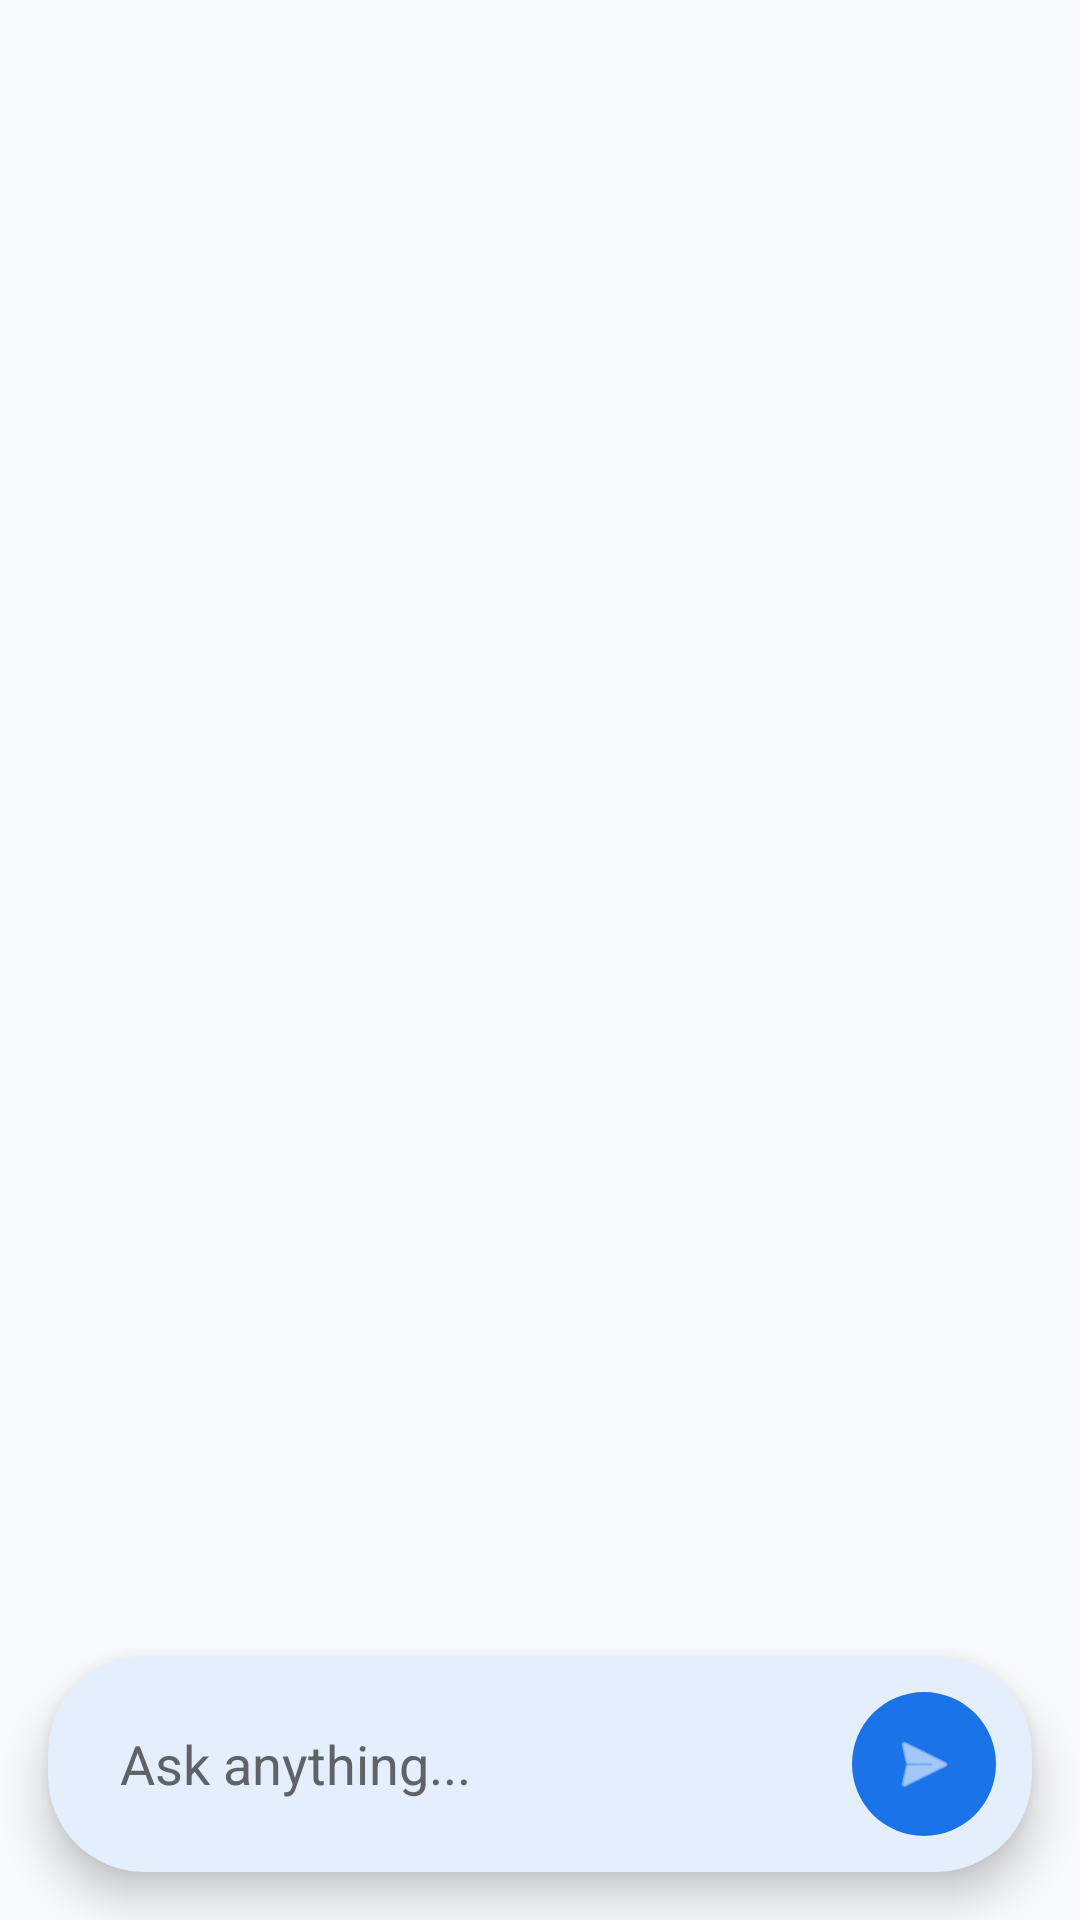

Icons on this 1080w x 1920h Android screen, each with its box as [x1, y1, x2, y2]:
send: [852, 1692, 996, 1836]
